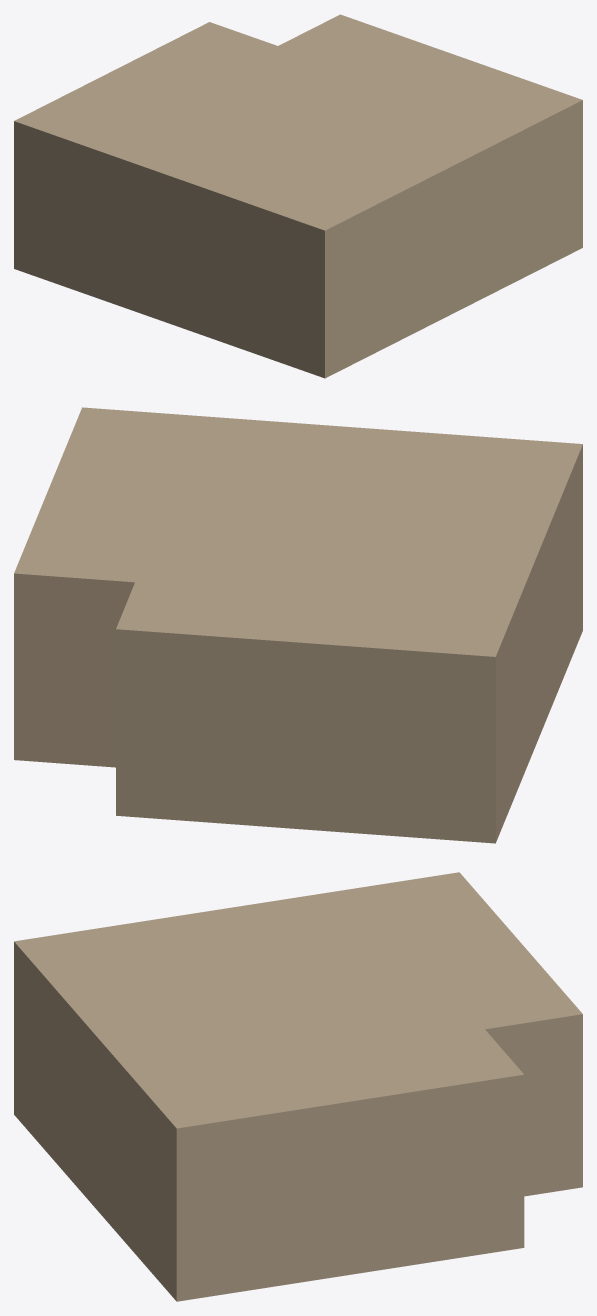
File: bld_1174606856.dae
3 renders of one model, top to bottom at view 1: azimuth 30°, elevation 25°; view 2: azimuth 150°, elevation 25°; view 3: azimuth 270°, elevation 25°, orthographic. The views are drawn at different scales.
Visible parts, largest first — view 1: Felsted Telephone Exchange; view 2: Felsted Telephone Exchange; view 3: Felsted Telephone Exchange.
Part boxes in pixels (x1=…): Felsted Telephone Exchange: x1=14, y1=14, x2=582, y2=378; Felsted Telephone Exchange: x1=14, y1=407, x2=582, y2=843; Felsted Telephone Exchange: x1=14, y1=872, x2=582, y2=1301.
Size of the model in its own units: 25.39 by 23.82 by 8.
